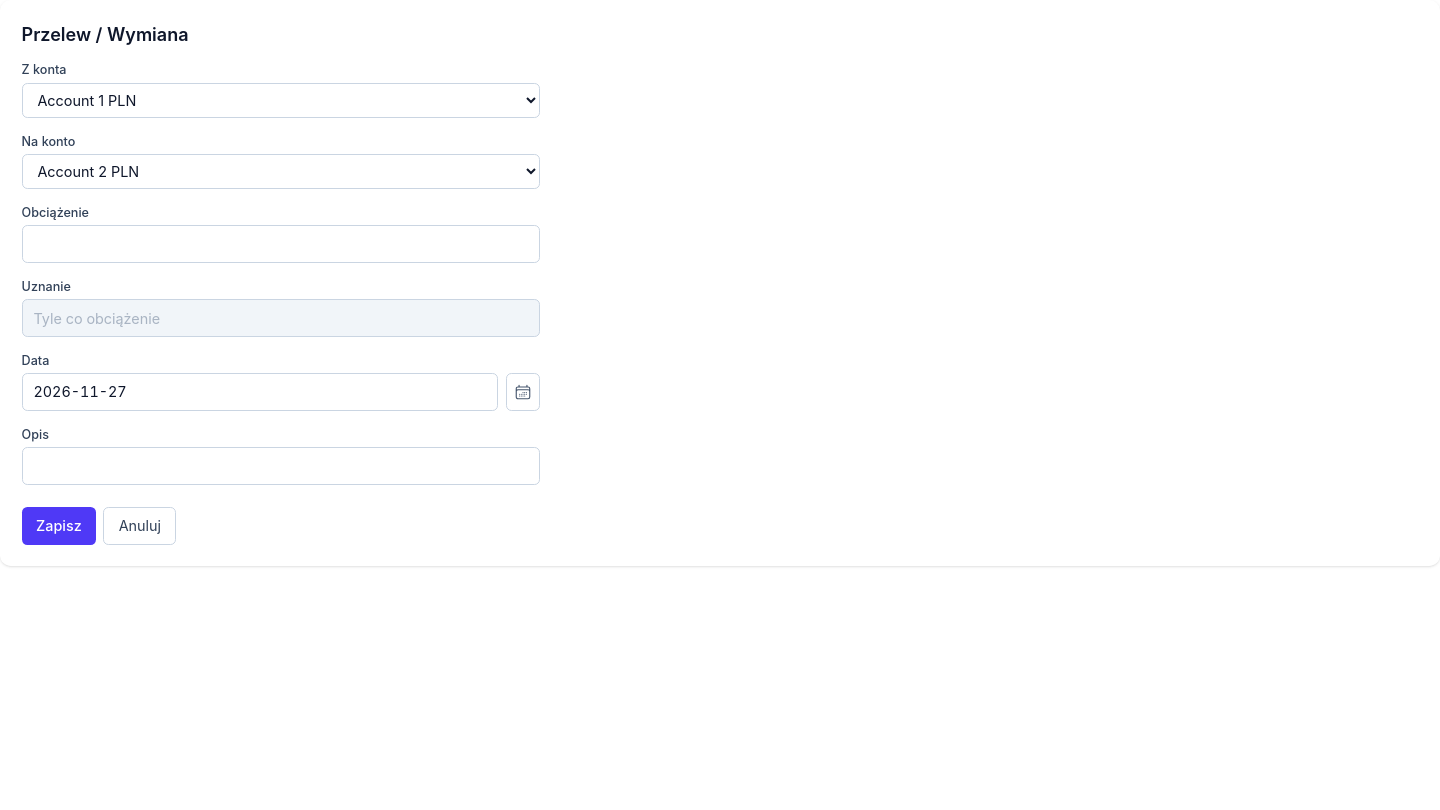
Test case: TransferPage › blocks the second amount for one currency, and gives back what was typed in it for two
Expected: the field labelled "Uznanie" is disabled, [22, 299, 540, 337]
Select "Account 3 EUR" in the dropdown labelled "Na konto" at coordinates (281, 172), box [22, 154, 540, 190]
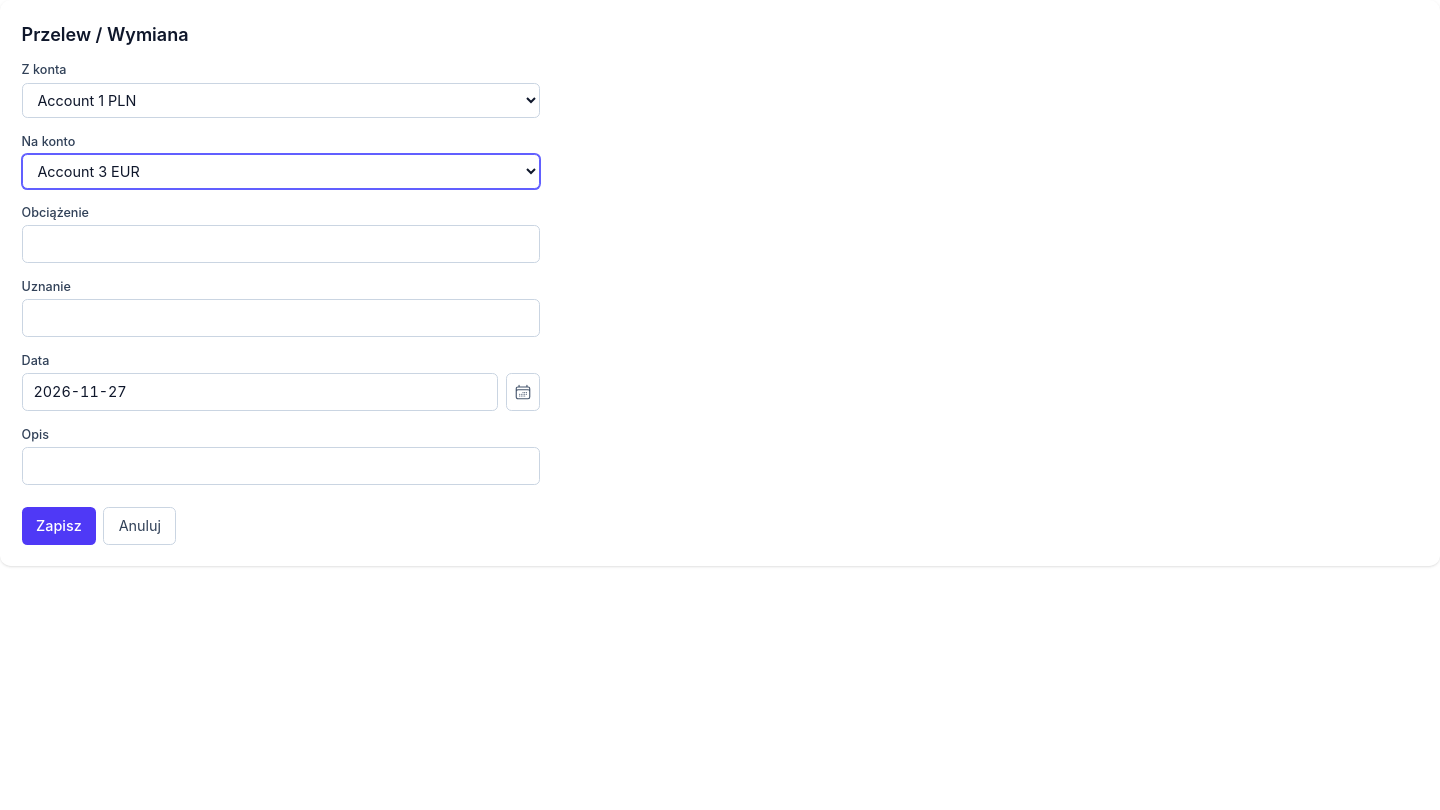
Type "4,50" into the field labelled "Uznanie" at coordinates (281, 318), box [22, 299, 540, 337]
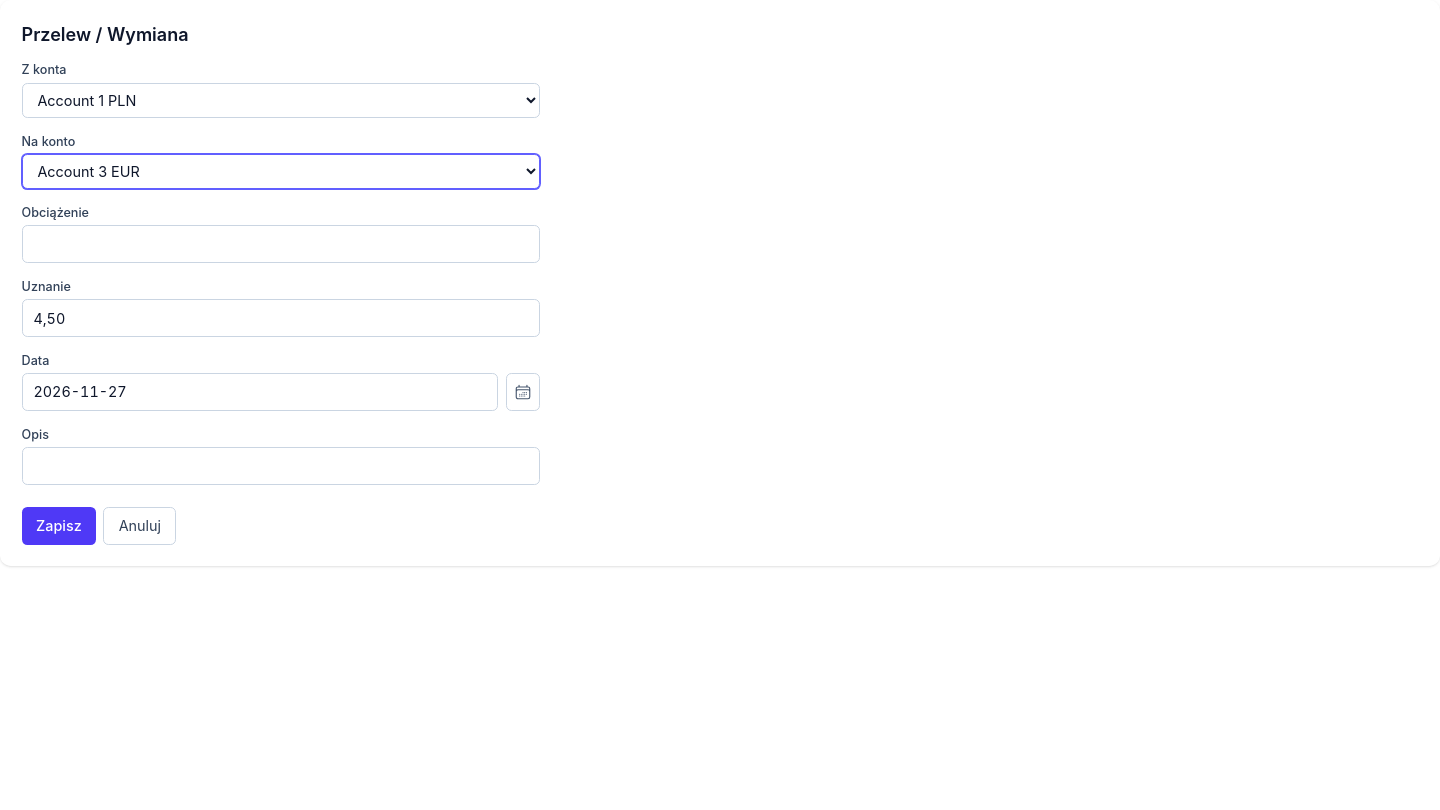
Select "Account 2 PLN" in the dropdown labelled "Na konto" at coordinates (281, 172), box [22, 154, 540, 190]
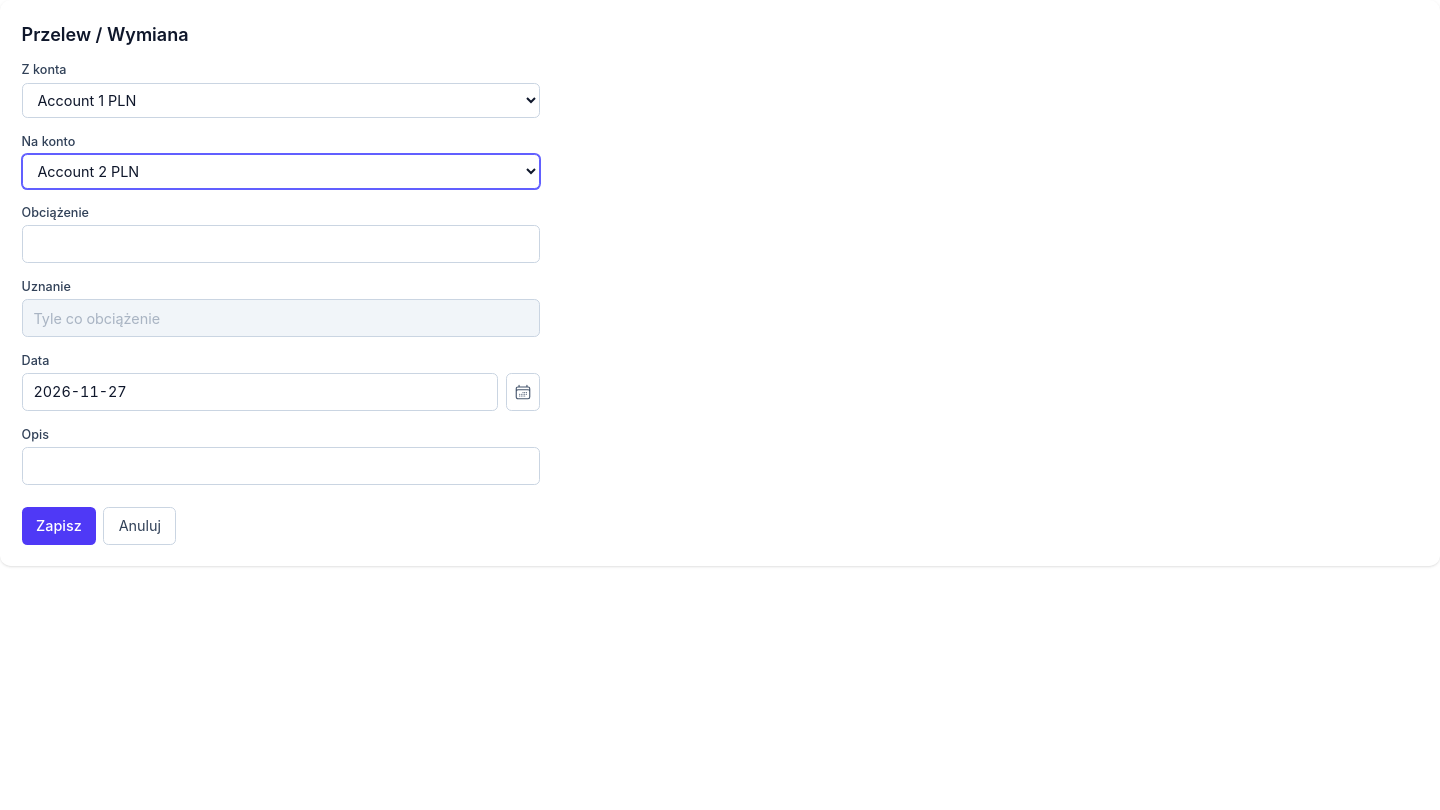
Expected: the field labelled "Uznanie" is disabled, [22, 299, 540, 337]
Expected: the field labelled "Uznanie" is empty, [22, 299, 540, 337]
Select "Account 3 EUR" in the dropdown labelled "Na konto" at coordinates (281, 172), box [22, 154, 540, 190]
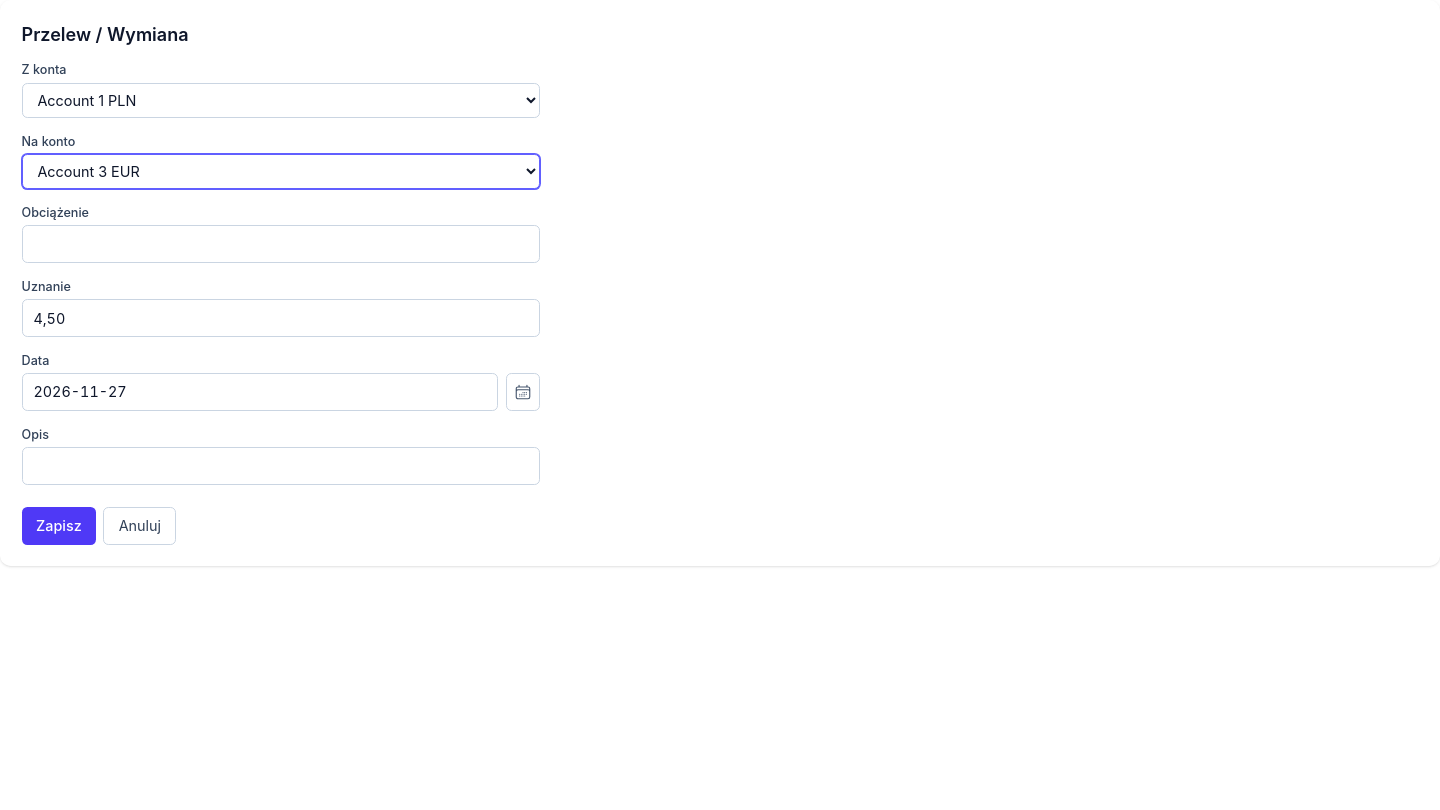
Expected: the field labelled "Uznanie" is enabled, [22, 299, 540, 337]
